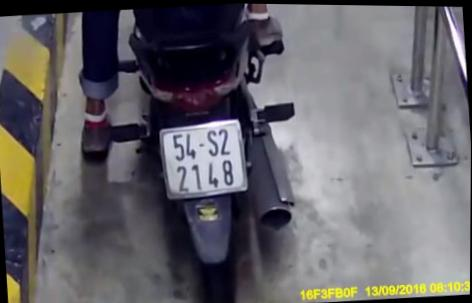LP: (156, 115, 249, 201)
